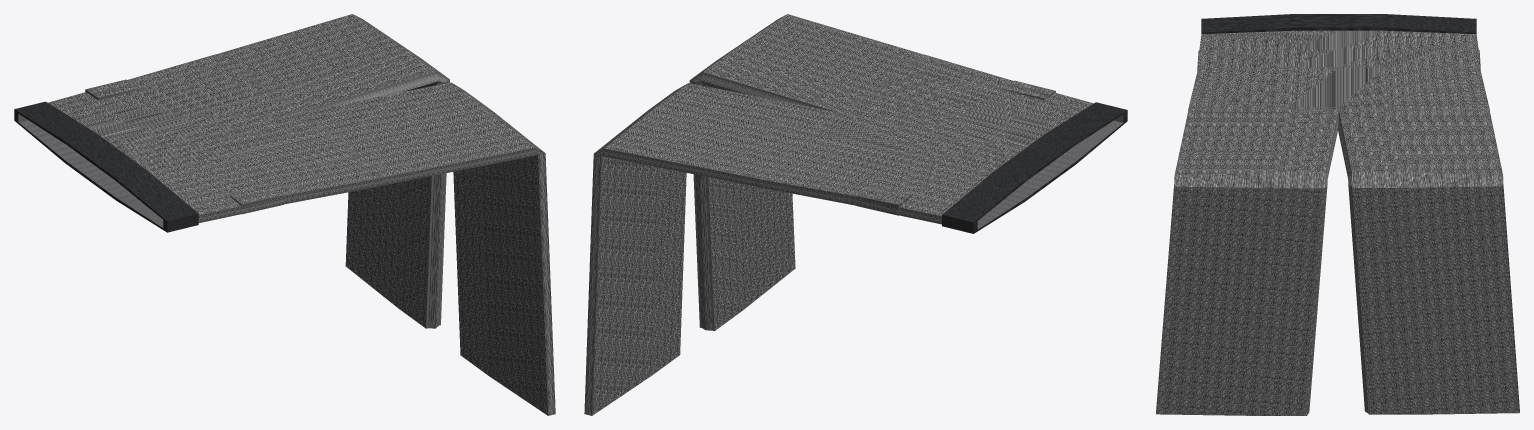
Rendered from pantalones3.fbx.
3 renders of one model, left to right at view 1: azimuth 30°, elevation 25°; view 2: azimuth 150°, elevation 25°; view 3: azimuth 270°, elevation 25°, orthographic. The views are drawn at different scales.
Visible parts, largest first — view 1: pants3:Mesh; view 2: pants3:Mesh; view 3: pants3:Mesh.
Boxes of the visible parts, x1=… form: pants3:Mesh: x1=14, y1=14, x2=555, y2=415; pants3:Mesh: x1=584, y1=14, x2=1127, y2=415; pants3:Mesh: x1=1156, y1=14, x2=1519, y2=415.
Bounding box in the file's own units: 2.77 × 1.93 × 2.65.
Materials: 2 (2 with a texture image).
